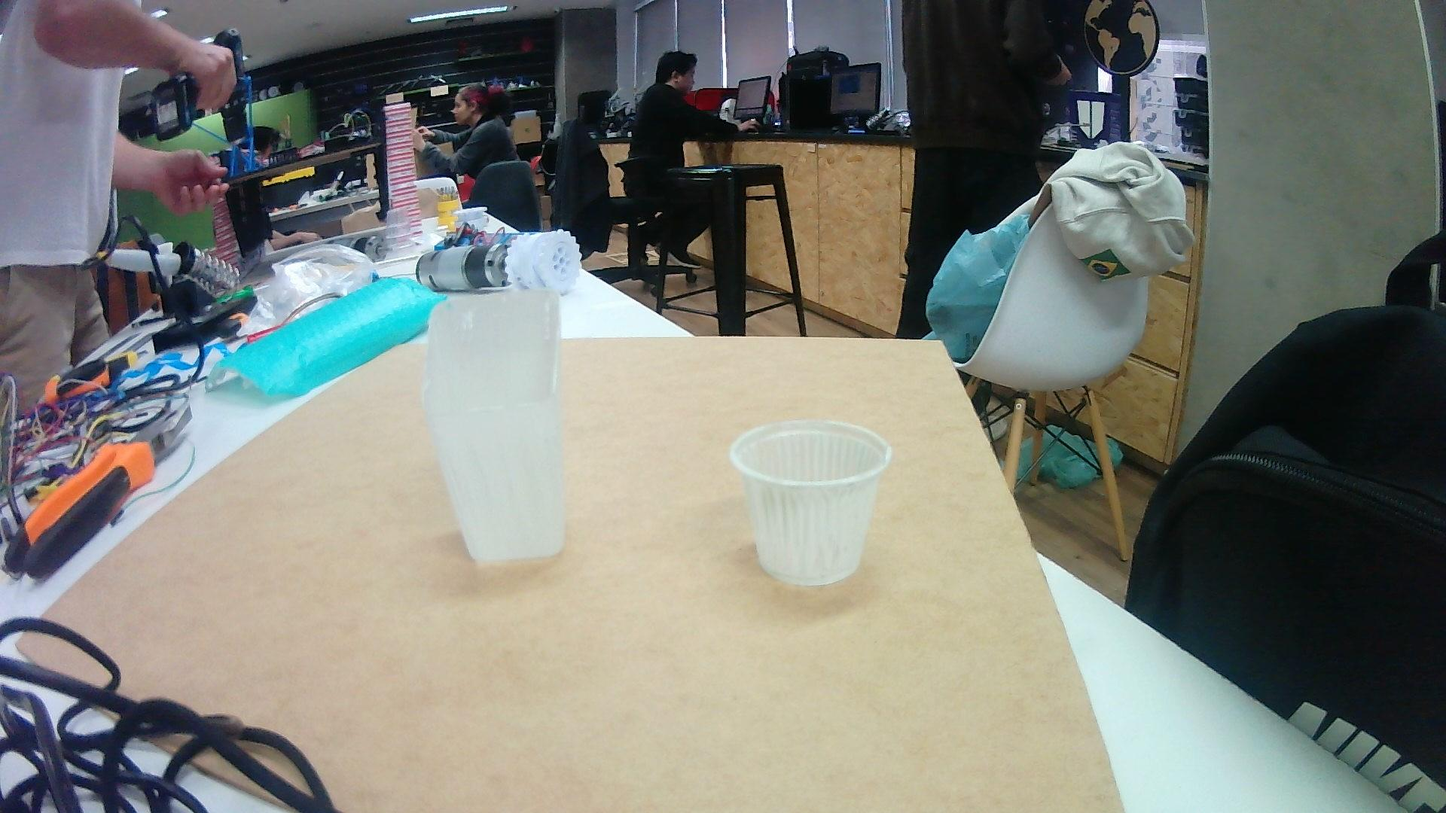erva_daninha: (416, 285, 568, 565)
planta: (728, 418, 893, 588)
